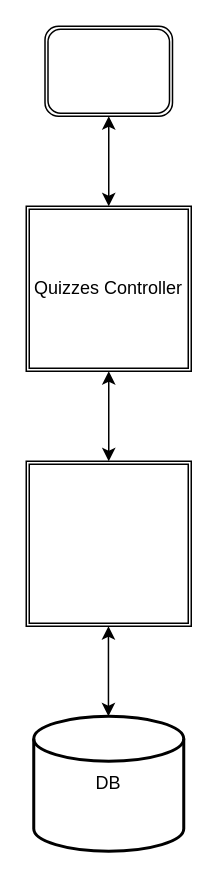
This 218x879 diagram has some shape labels left out. Each missing label, with the box of its shape:
Client: (44, 25, 172, 116)
Quizzes Service: (25, 460, 191, 626)
